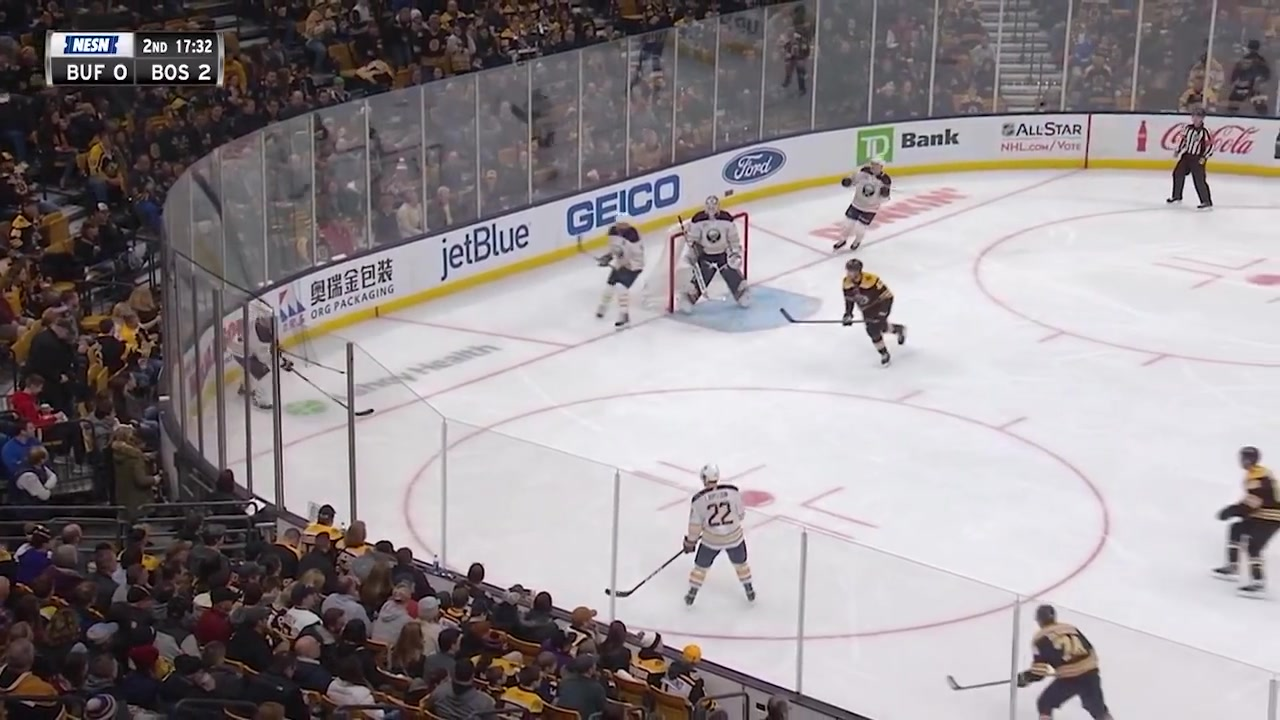Geico: (562, 169, 691, 227)
